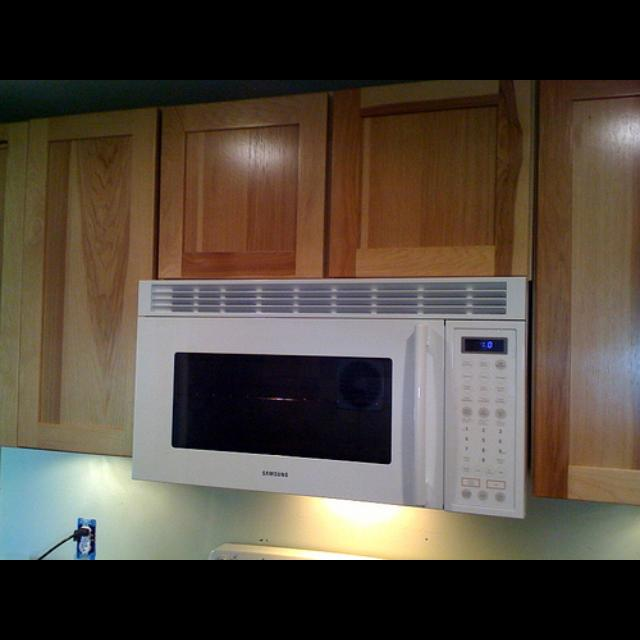Microwave: (132, 276, 526, 518)
